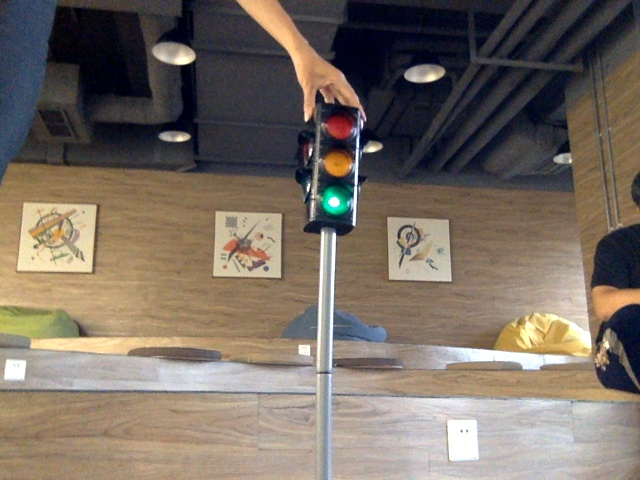green: (316, 112, 352, 221)
